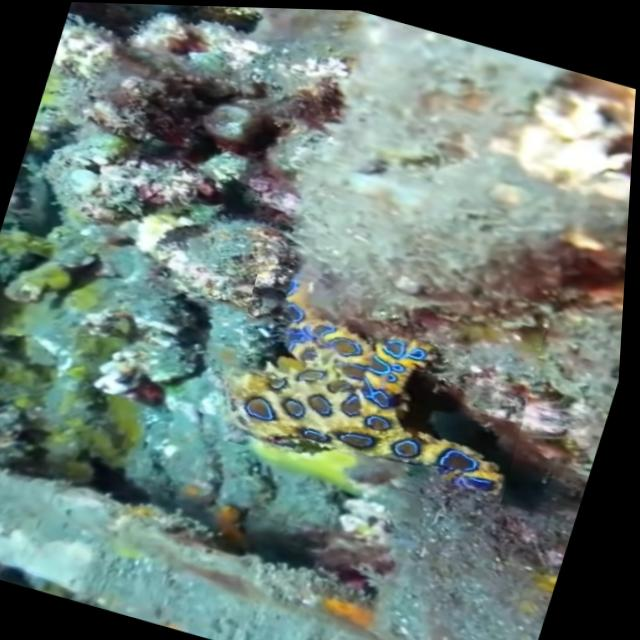blue_ringed_octopus: (210, 250, 557, 510)
